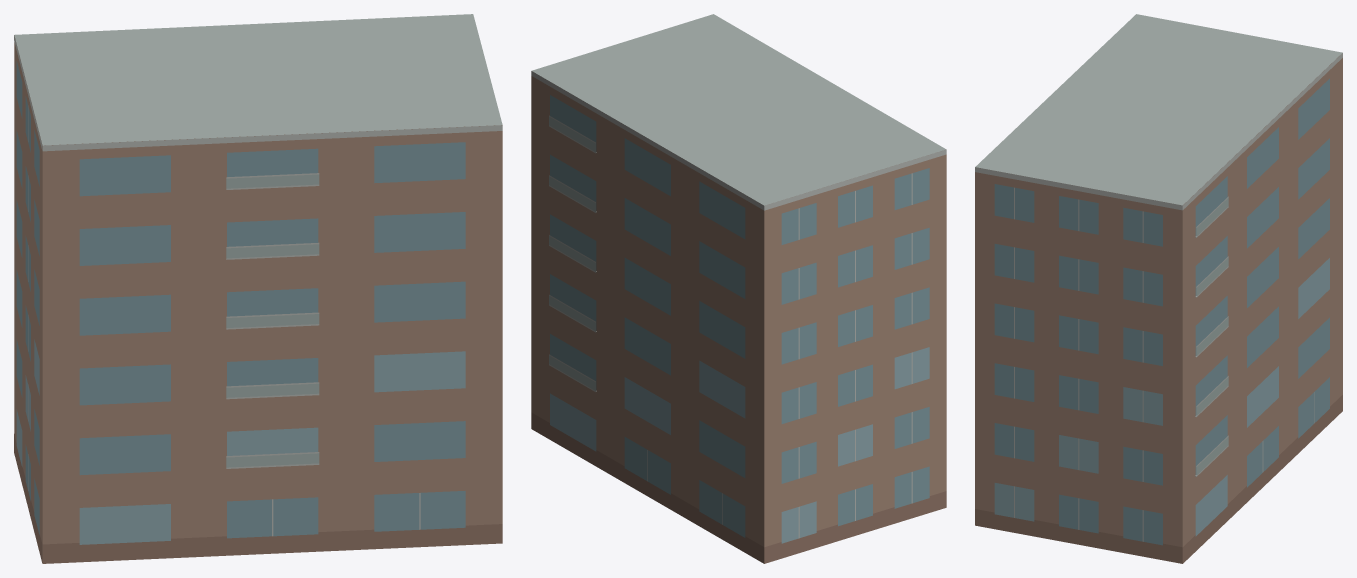
File: survey-upis-32658815.glb
3 views of the same model, side by side, from view 1: azimuth 30°, elevation 25°; view 2: azimuth 150°, elevation 25°; view 3: azimuth 270°, elevation 25° (orthographic). The views are drawn at different scales.
Parts seen in each view (by area): view 1: survey-upis-32658815.tmp; view 2: survey-upis-32658815.tmp; view 3: survey-upis-32658815.tmp.
Boxes of the visible parts, left/top/right/bottom form: survey-upis-32658815.tmp: left=14, top=14, right=502, bottom=563; survey-upis-32658815.tmp: left=531, top=14, right=946, bottom=563; survey-upis-32658815.tmp: left=975, top=14, right=1342, bottom=563.
Size of the model in its own units: 20.05 by 17.5 by 16.28.
